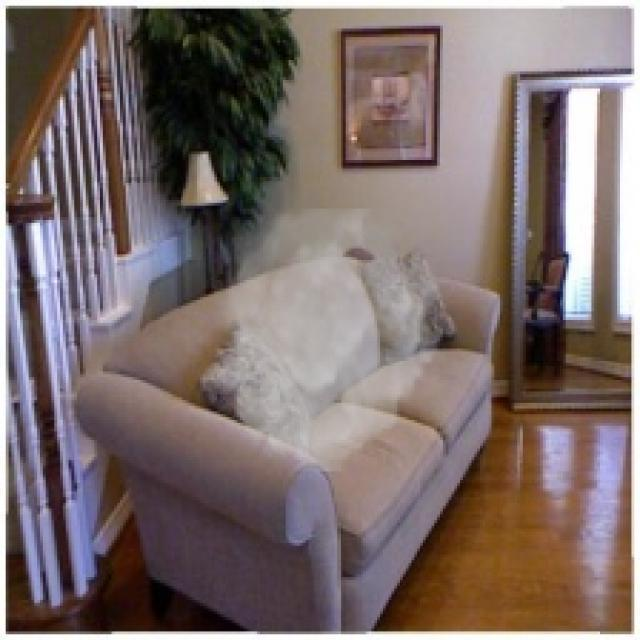Smoke: (206, 208, 448, 472)
